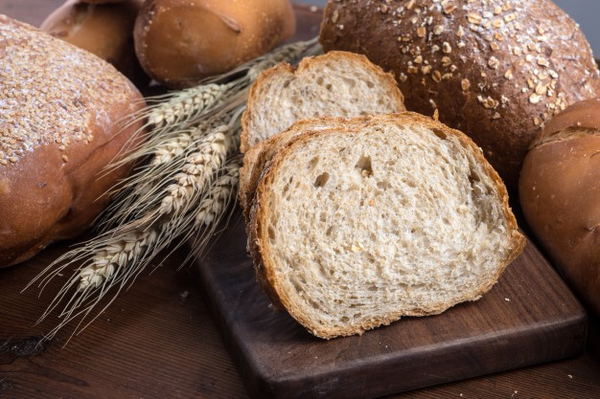slice of bread: (253, 116, 518, 339), (238, 47, 411, 280)
